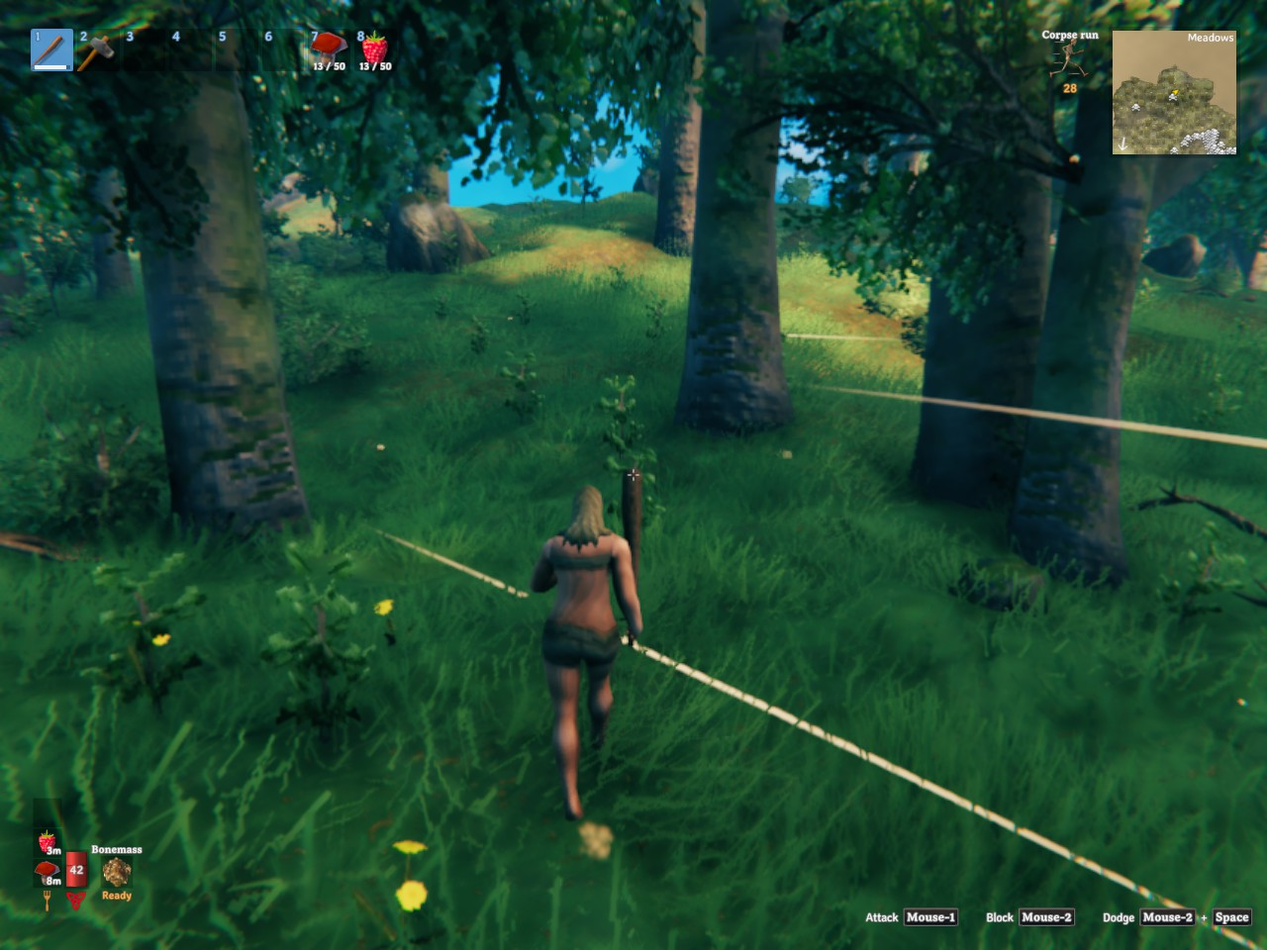Branch: (1137, 489, 1266, 539)
